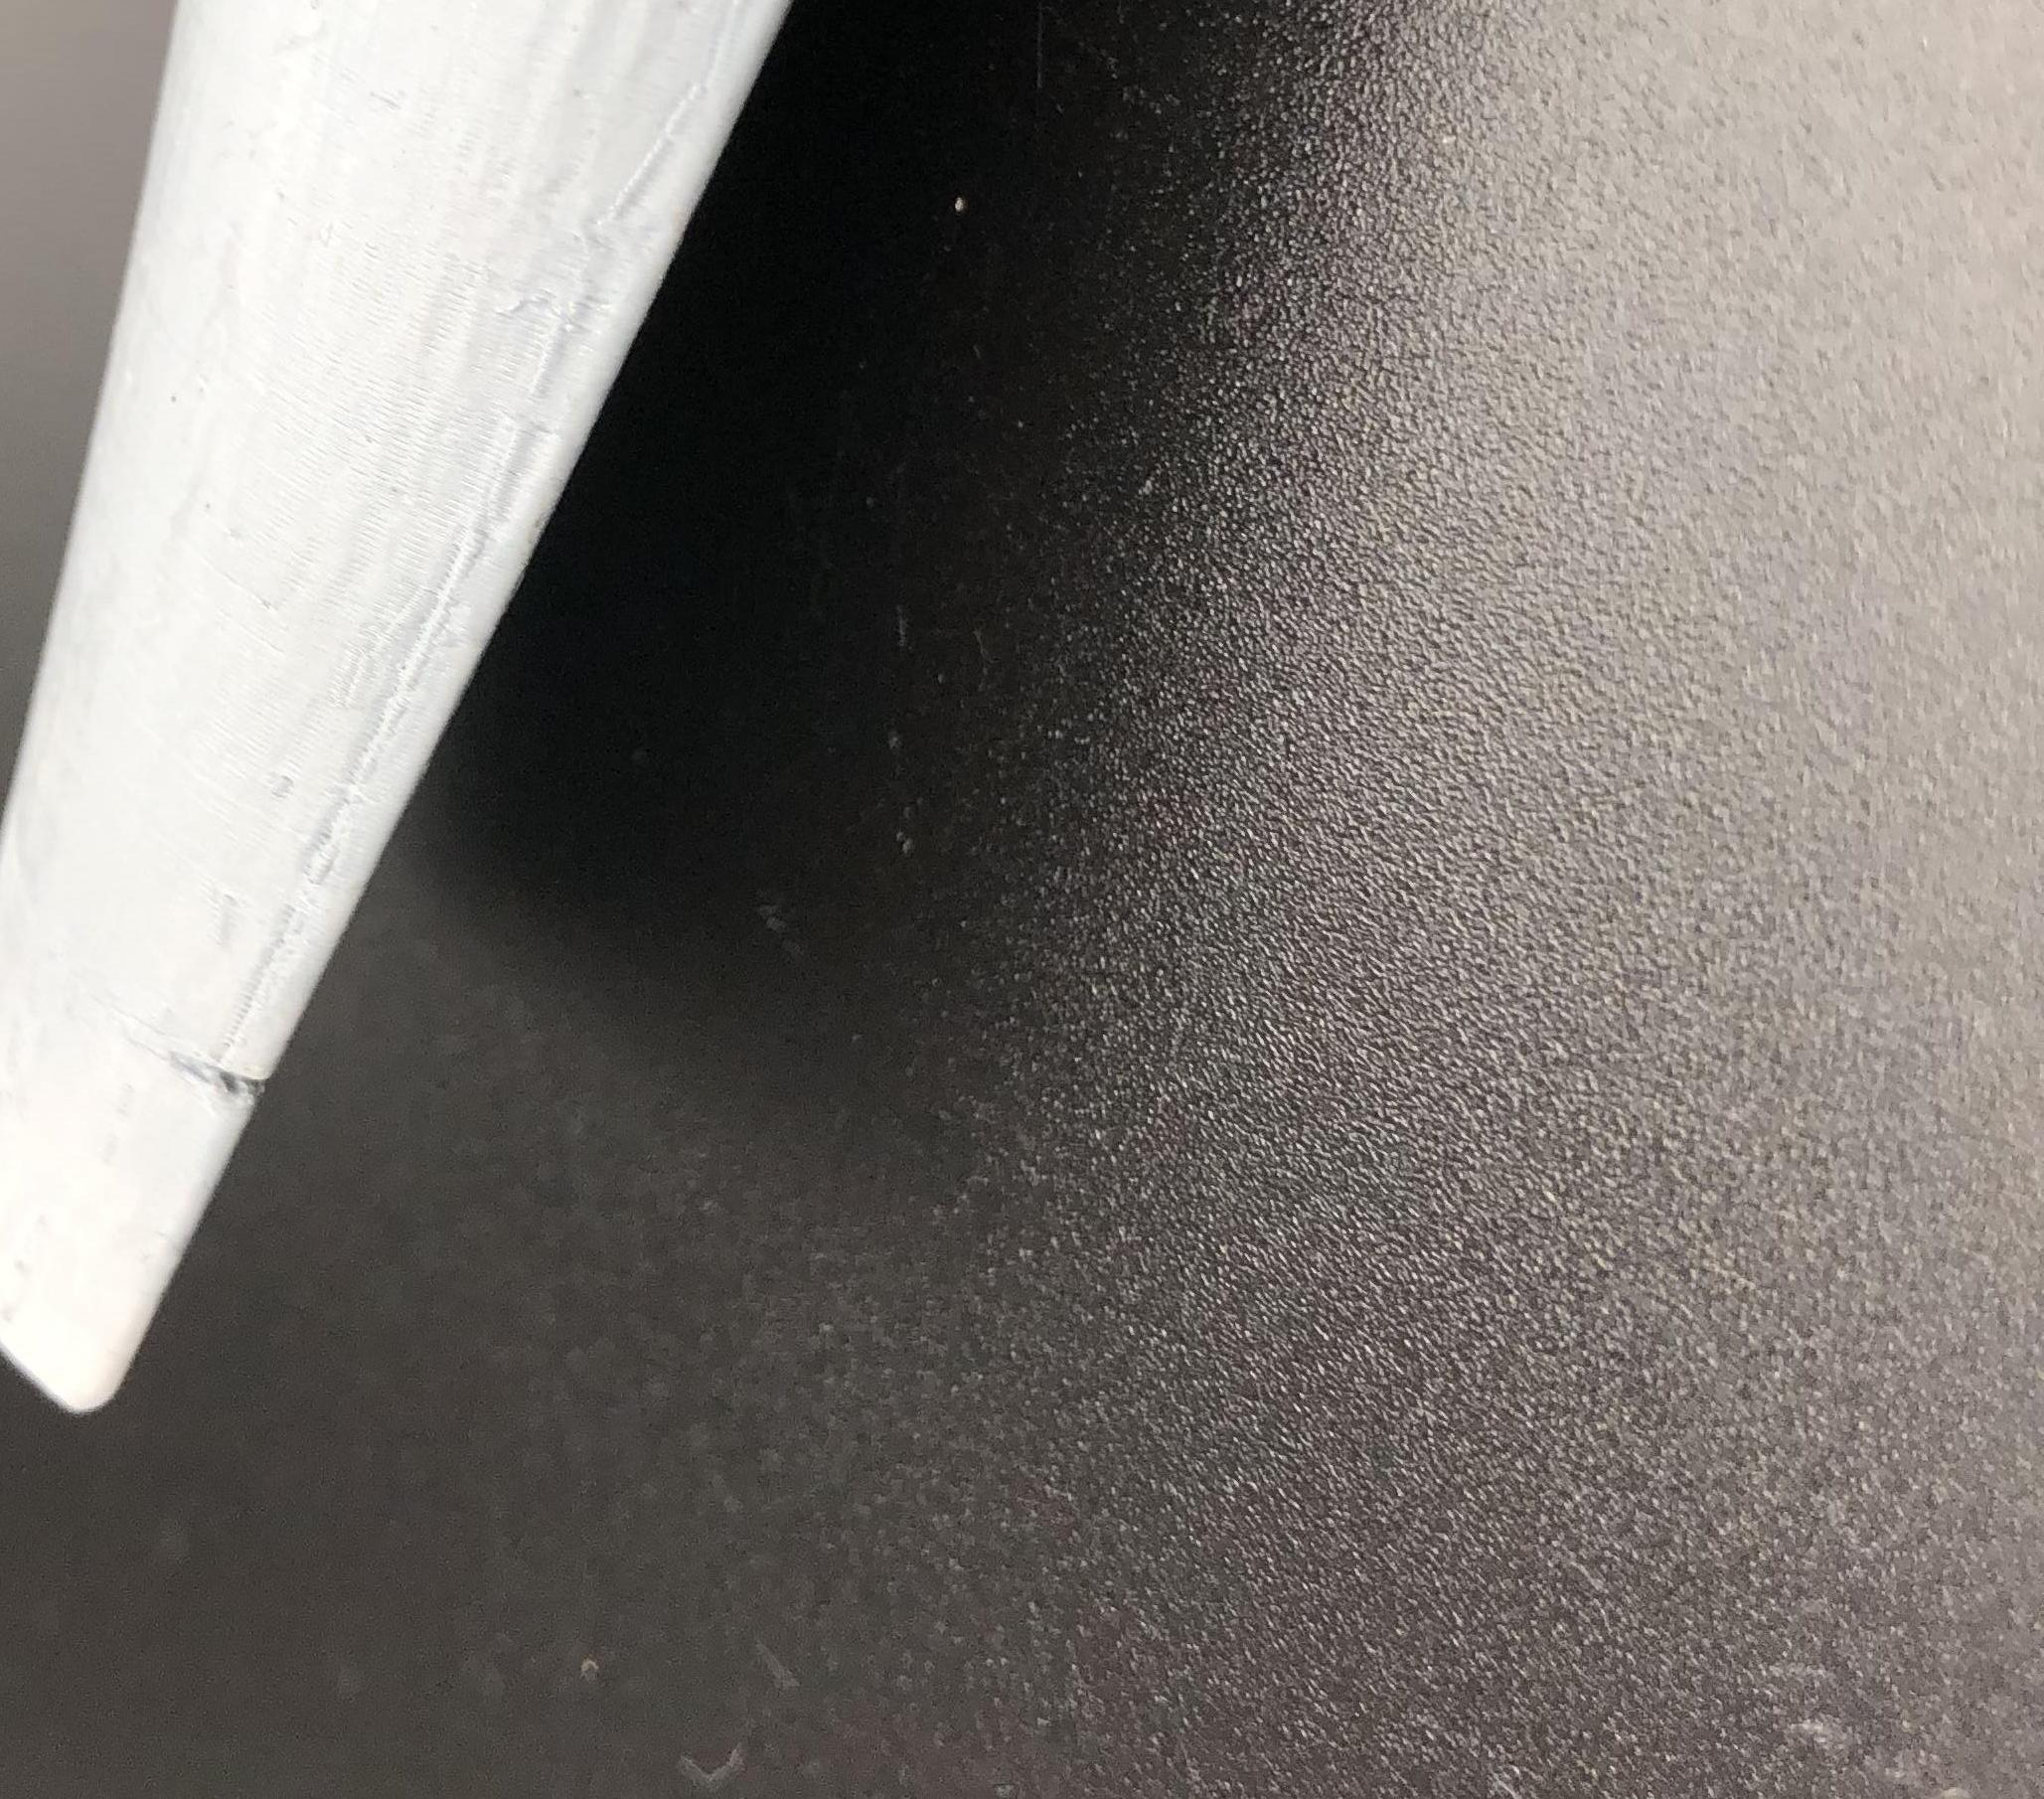groove: (158, 1048, 282, 1116)
